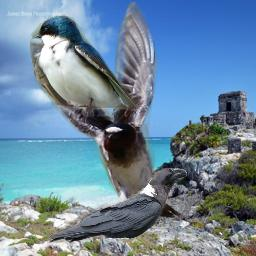Crow: (47, 168, 187, 244)
Swallow: (30, 2, 183, 226), (31, 14, 140, 124)
